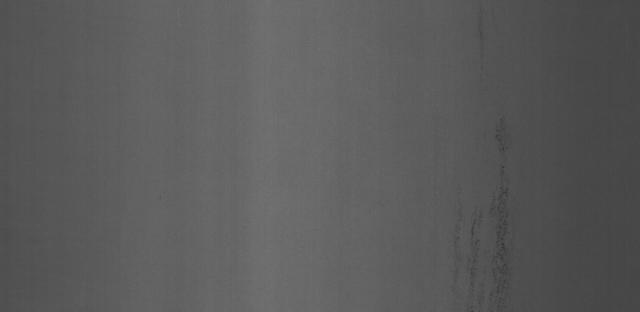inclusion: (443, 114, 532, 309)
